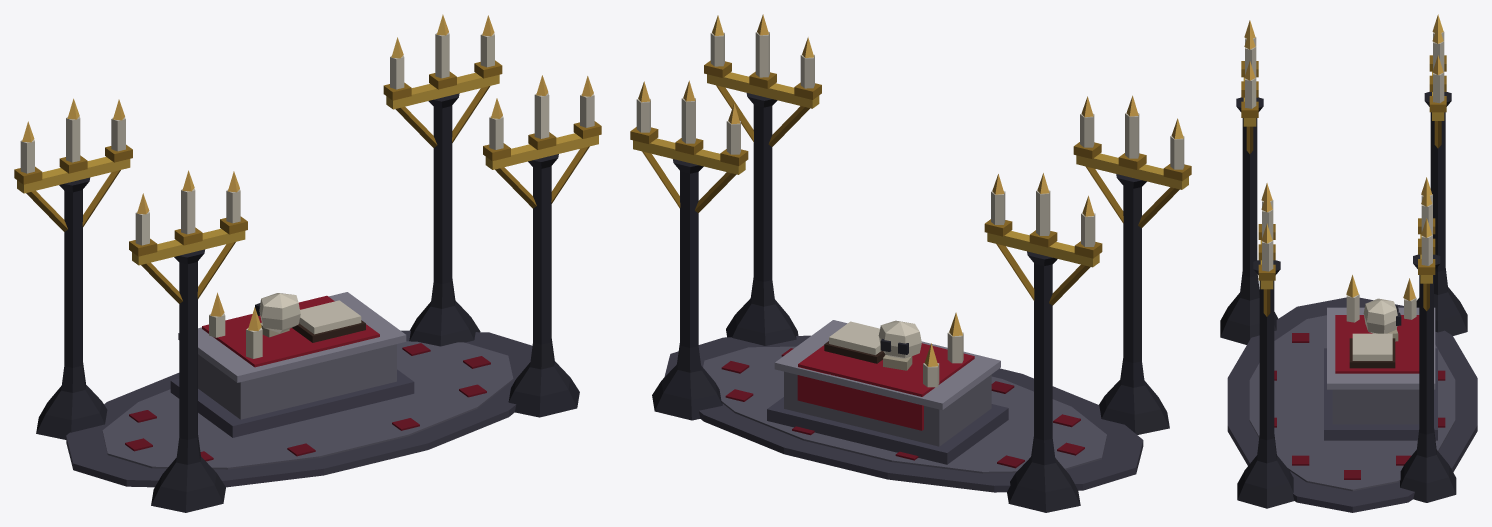
The model's file is Decor_VampireCrypt_Candles.fbx.
The picture shows the model from 3 angles, left to right: view 1: azimuth 30°, elevation 25°; view 2: azimuth 150°, elevation 25°; view 3: azimuth 270°, elevation 25°; orthographic projection. The views are drawn at different scales.
Parts seen in each view (by area): view 1: Candles_Body; view 2: Candles_Body; view 3: Candles_Body.
Part boxes in pixels (x1,y1,x2,y2): Candles_Body: (14,14,601,512); Candles_Body: (630,14,1191,512); Candles_Body: (1220,14,1477,512).
Size of the model in its own units: 15 by 9.65 by 7.5.
